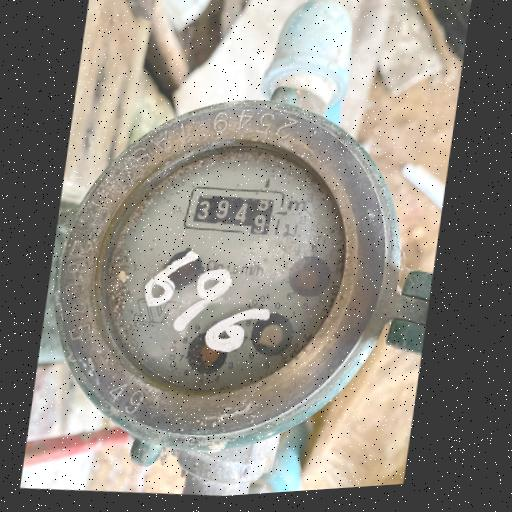3: (193, 194, 216, 225)
4: (229, 196, 256, 228)
8: (249, 197, 275, 236)
9: (211, 194, 234, 225)
border_water_meter_number: (182, 179, 285, 242)
